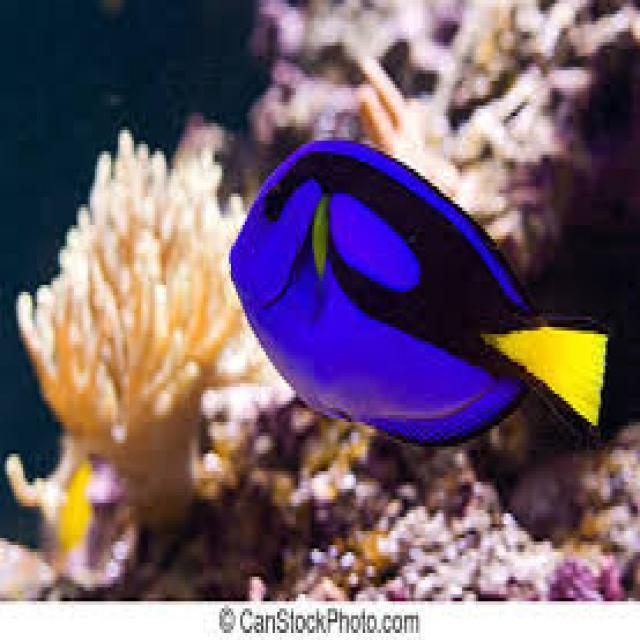TangFish: (228, 129, 609, 453)
